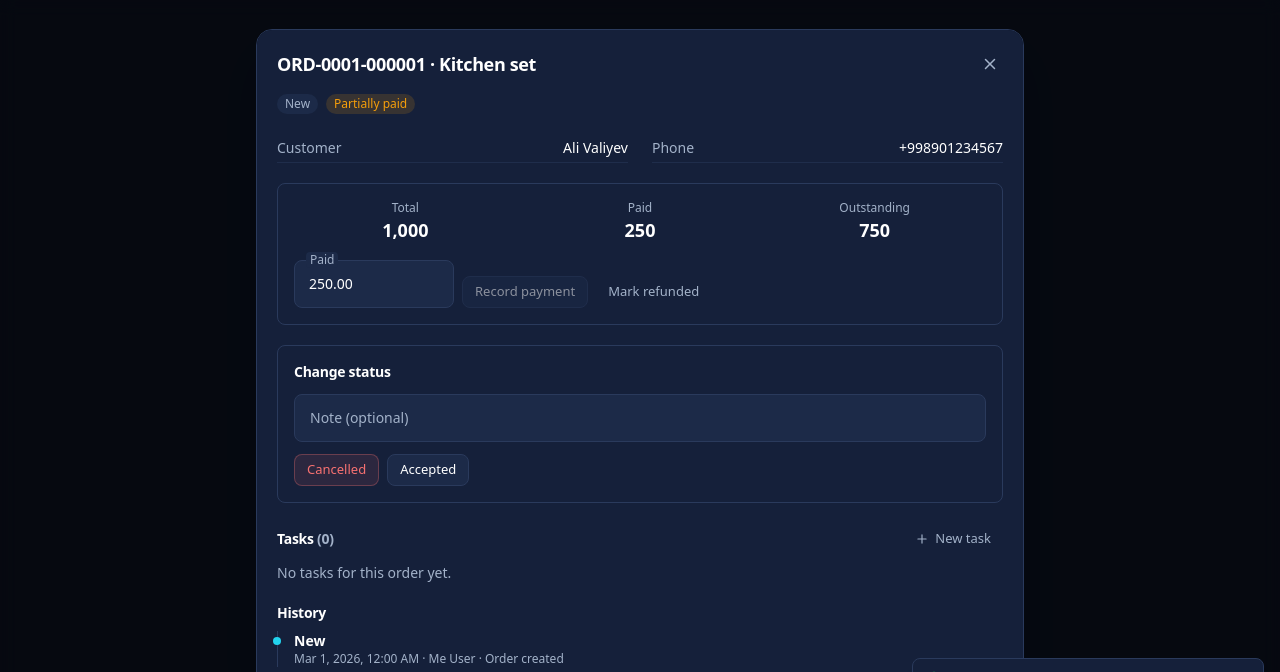
Scenario: OrderModal › cancelling needs a confirmation and warns that tasks are cancelled too
Later steps or results of the test are not shown.
Click the button "Cancelled": x=337, y=470 [294,454,379,486]
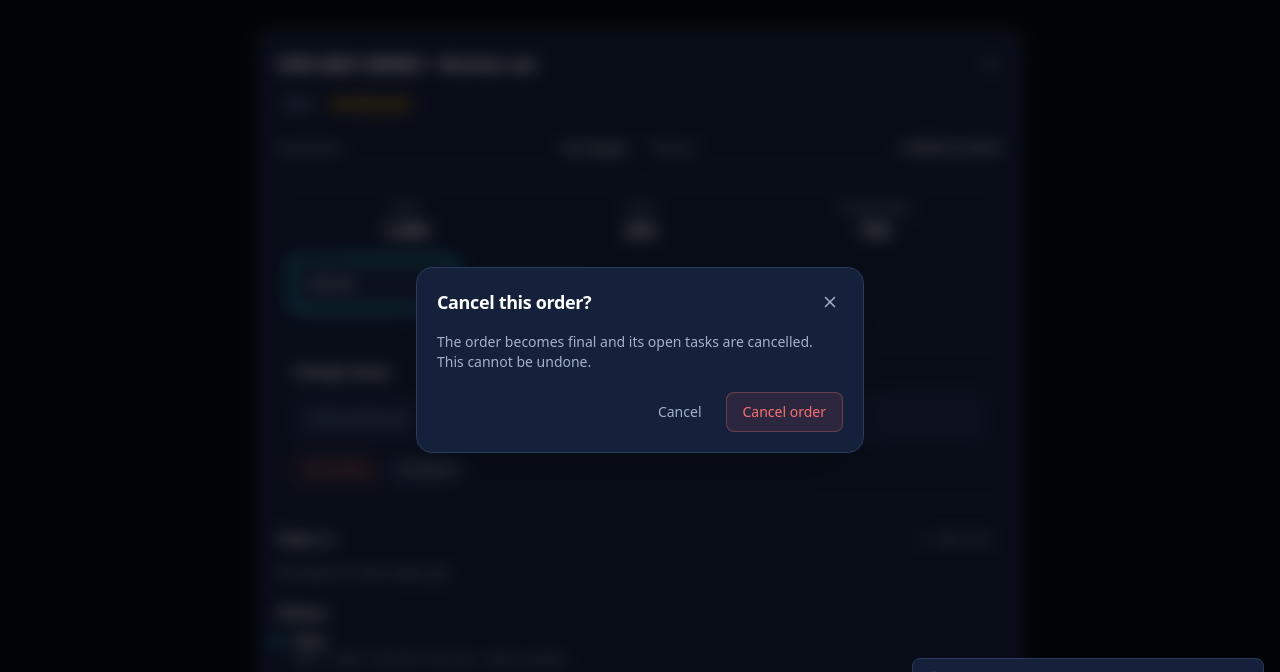
Now the dialog "Cancel this order?" shows "open tasks are cancelled", box [437,332,813,371]
